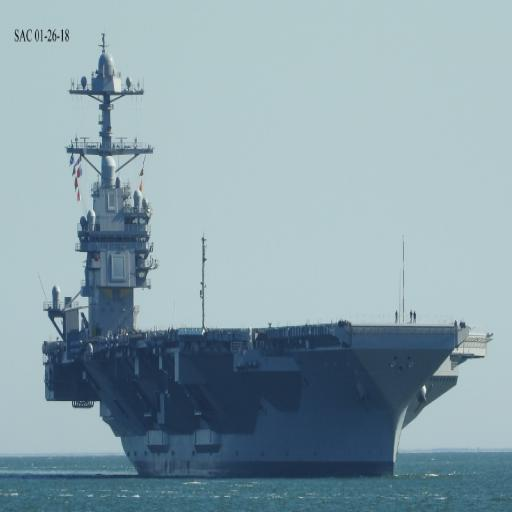Portanaves: (40, 24, 494, 482)
